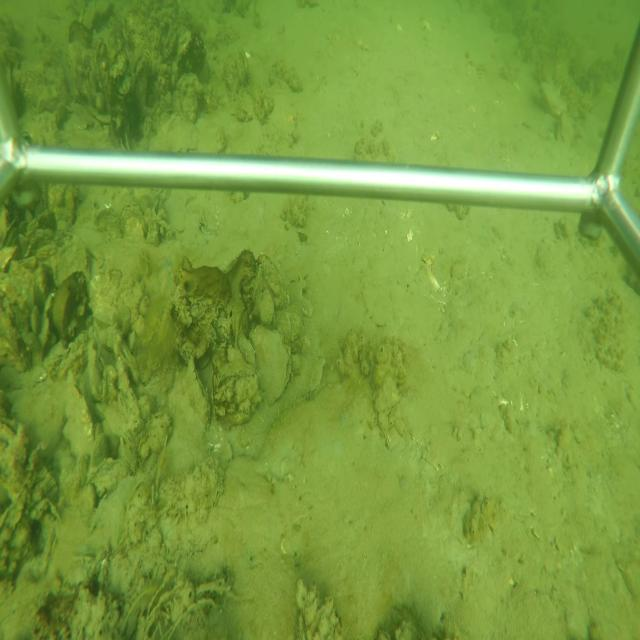Oyster-Closed: (251, 324, 293, 406), (173, 357, 212, 438), (257, 245, 282, 293)
Oyster-Indeterminate: (62, 378, 95, 456)
